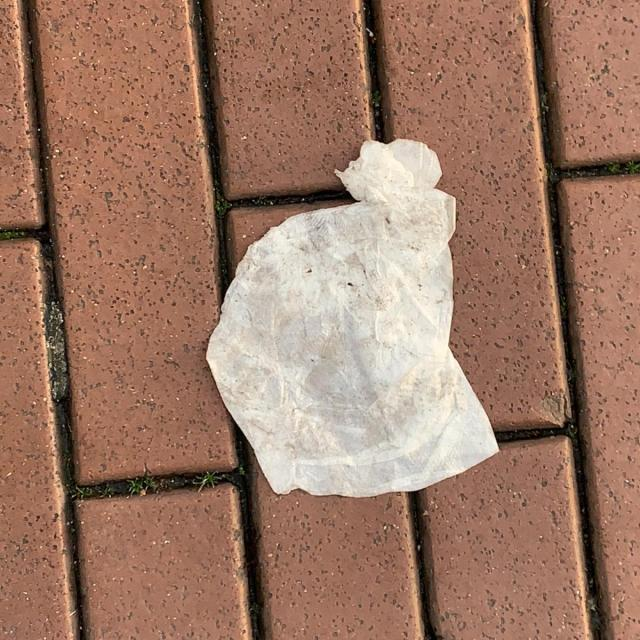Paper: (205, 129, 498, 503)
